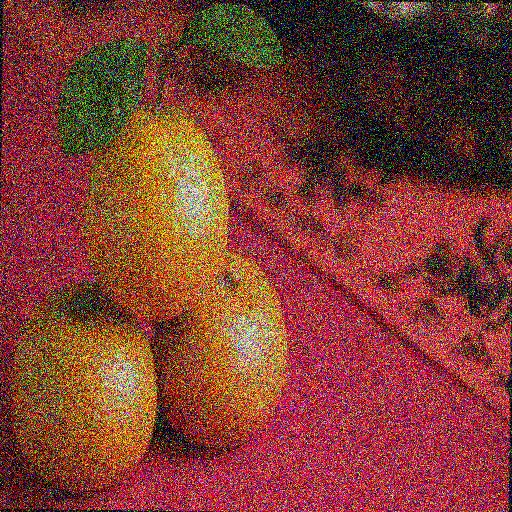fruit: (77, 179, 241, 512), (36, 113, 136, 395), (0, 199, 31, 509)
